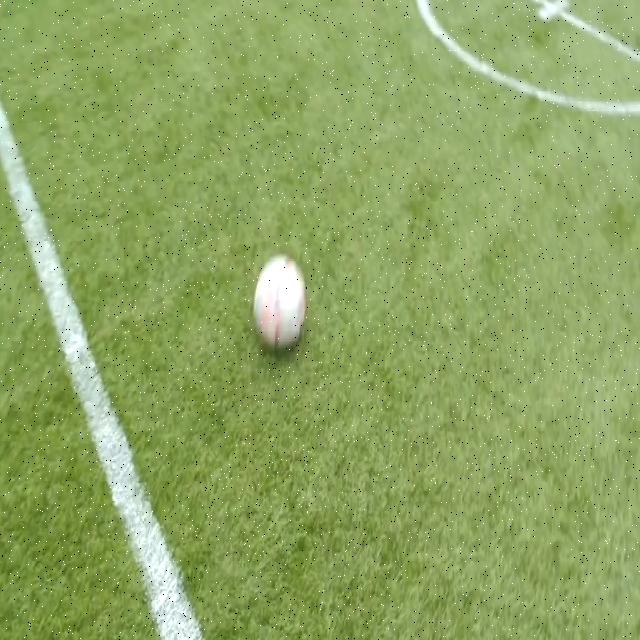ball: (253, 254, 306, 349)
